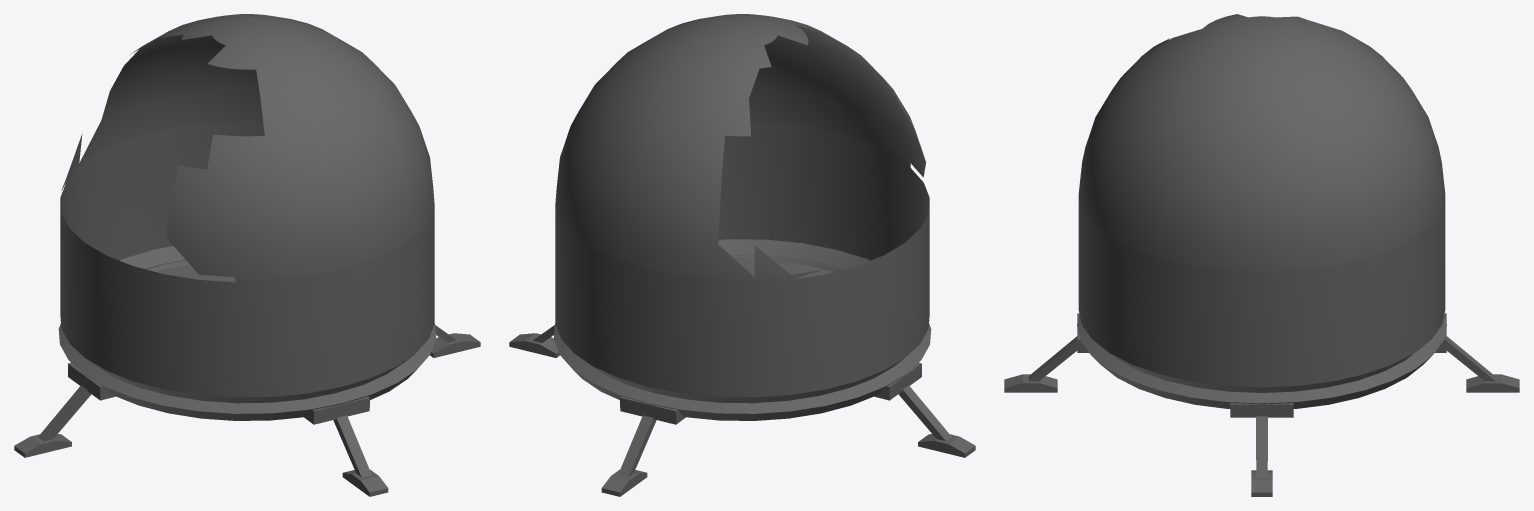
Rendered from testHouse.gltf.
3 views of the same model, side by side, from view 1: azimuth 30°, elevation 25°; view 2: azimuth 150°, elevation 25°; view 3: azimuth 270°, elevation 25° (orthographic). The views are drawn at different scales.
Parts seen in each view (by area): view 1: House; view 2: House; view 3: House.
Part boxes in pixels (<box>): House: <box>14,14,480,496</box>; House: <box>509,14,975,496</box>; House: <box>1004,14,1519,496</box>.
Size of the model in its own units: 9.71 by 7.48 by 9.71.
Materials: 1 (1 with a texture image).
